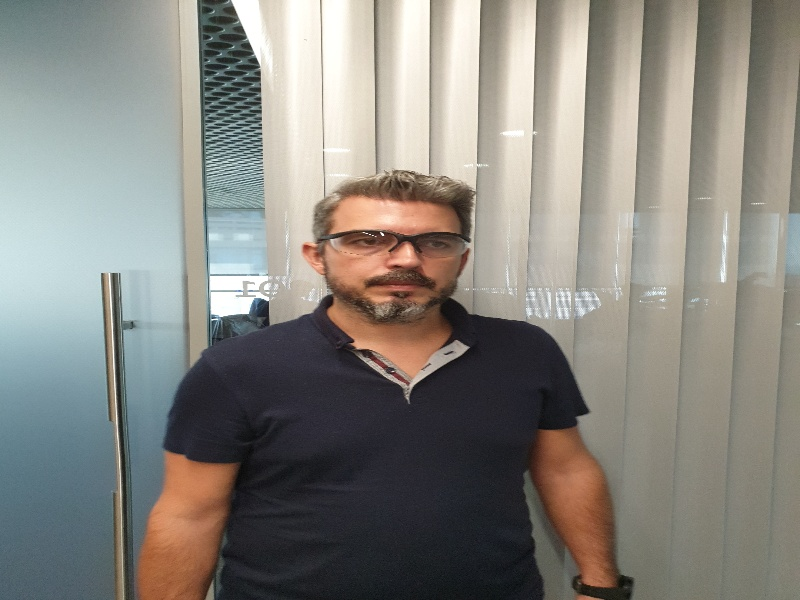Gozluk: (317, 230, 473, 258)
